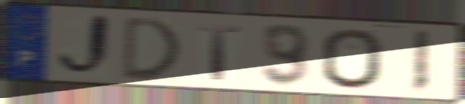9: (259, 22, 310, 89)
D: (119, 14, 183, 82)
I: (410, 28, 433, 95)
J: (54, 11, 115, 81)
O: (320, 26, 385, 91)
T: (195, 22, 244, 83)
